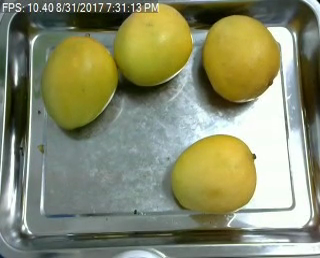Mango: (42, 35, 116, 129), (170, 133, 256, 211), (202, 15, 279, 102), (113, 3, 192, 86)
